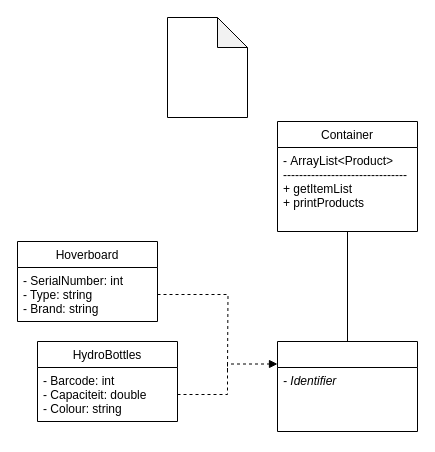
The diagram is 435 pixels wide and 452 high, and some of its shapes have lost their labels. The box of each missing label's shape, as (x1, y1, x2, y2) in pixels:
Getters and Setters apply everywhere: (166, 16, 248, 118)
Product: (276, 340, 418, 432)
